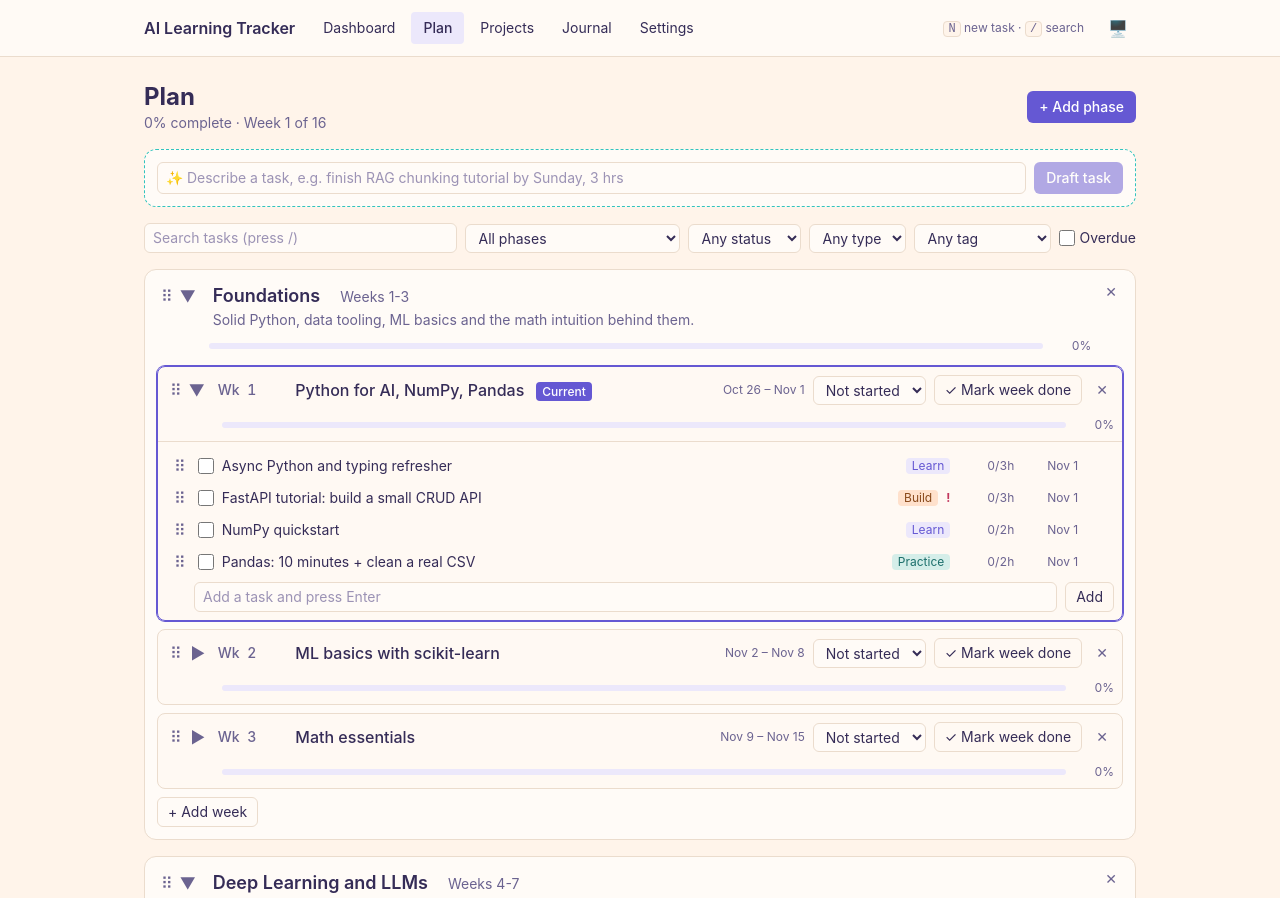
Test: PlanPage › edits a phase title inline; Escape cancels
Expected: the heading "Plan" is shown, [144,82,195,111]
Click the button with aria-label "Edit Phase title: Foundations" at (266, 296), box [209,282,324,310]
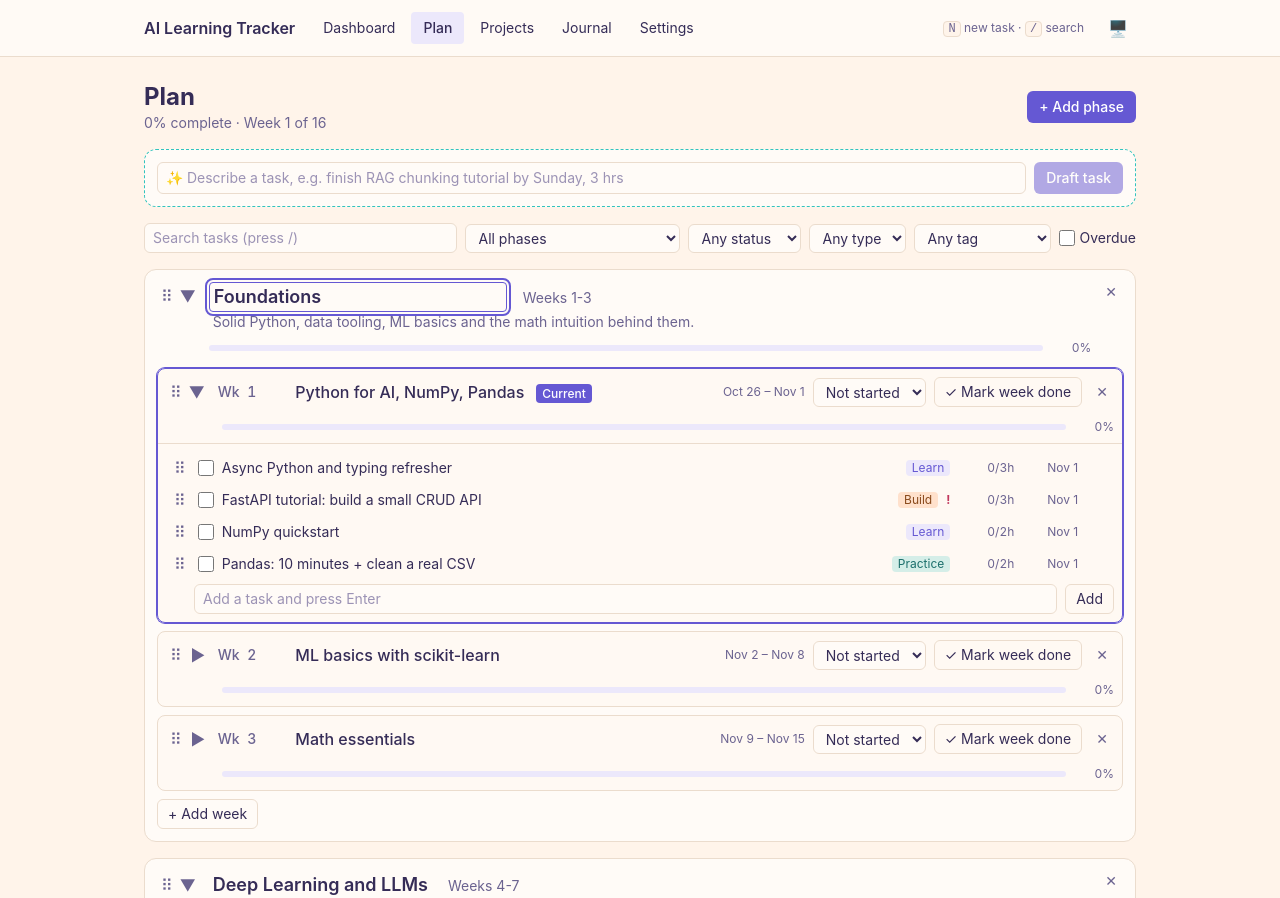
Type " X" into the field named "Phase title" at (358, 297), box [209,282,507,312]
Then press Escape
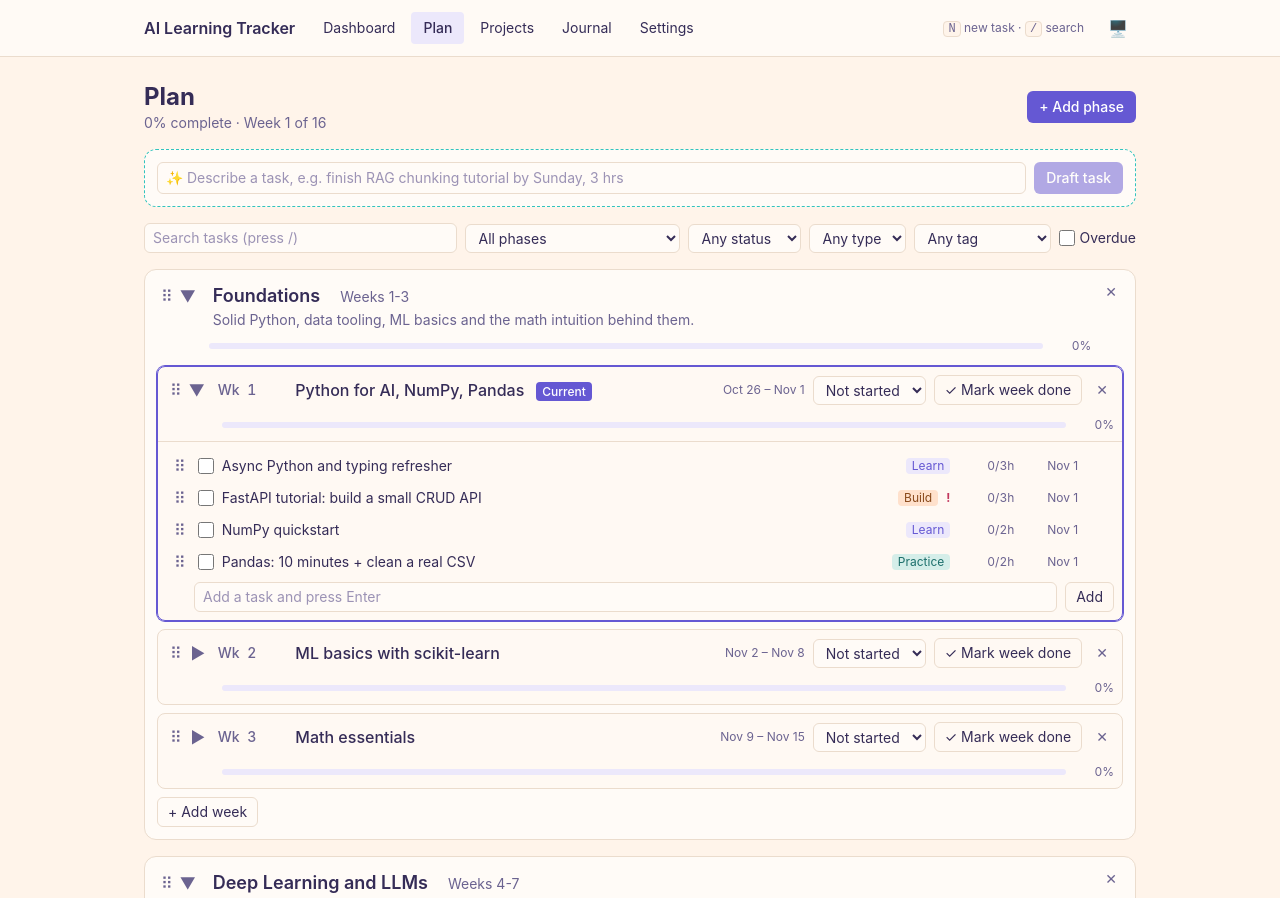
Result: the button with aria-label "Edit Phase title: Foundations" is shown
Click the button with aria-label "Edit Phase title: Foundations" at (266, 296), box [209,282,324,310]
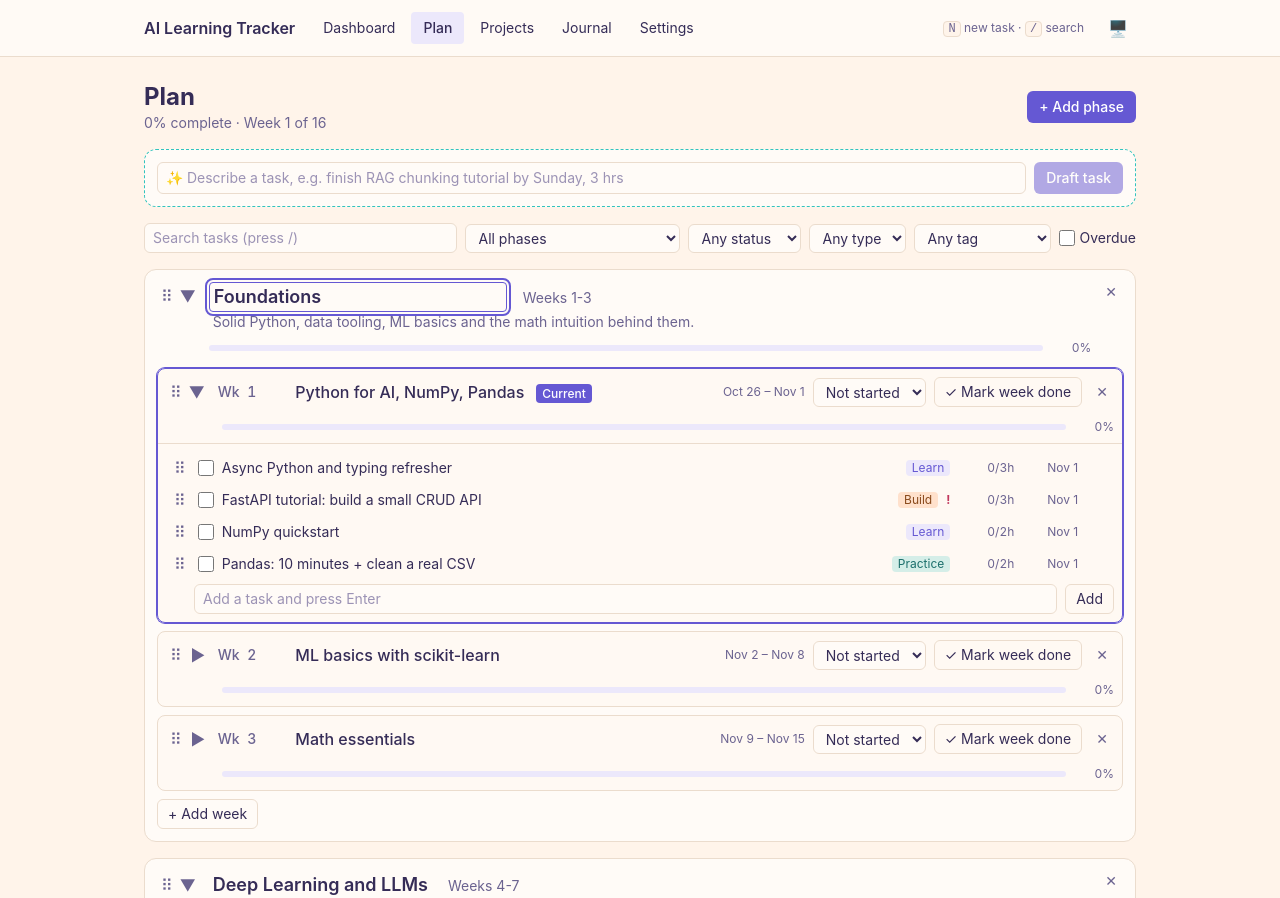
Type " 101" into the field named "Phase title" at (358, 297), box [209,282,507,312]
Then press Enter
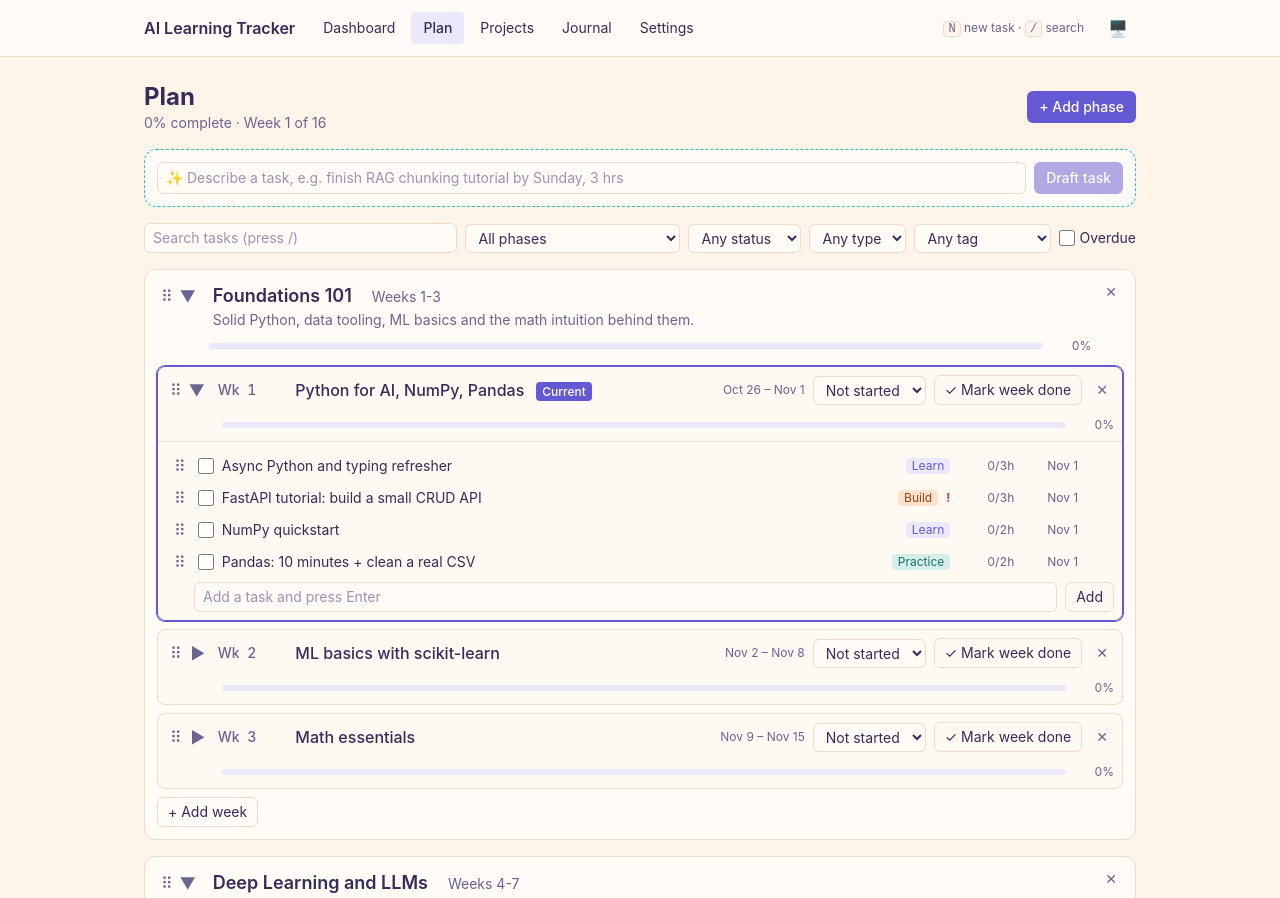
Result: the element named "Phase: Foundations 101" is shown at [144,269,1136,840]
